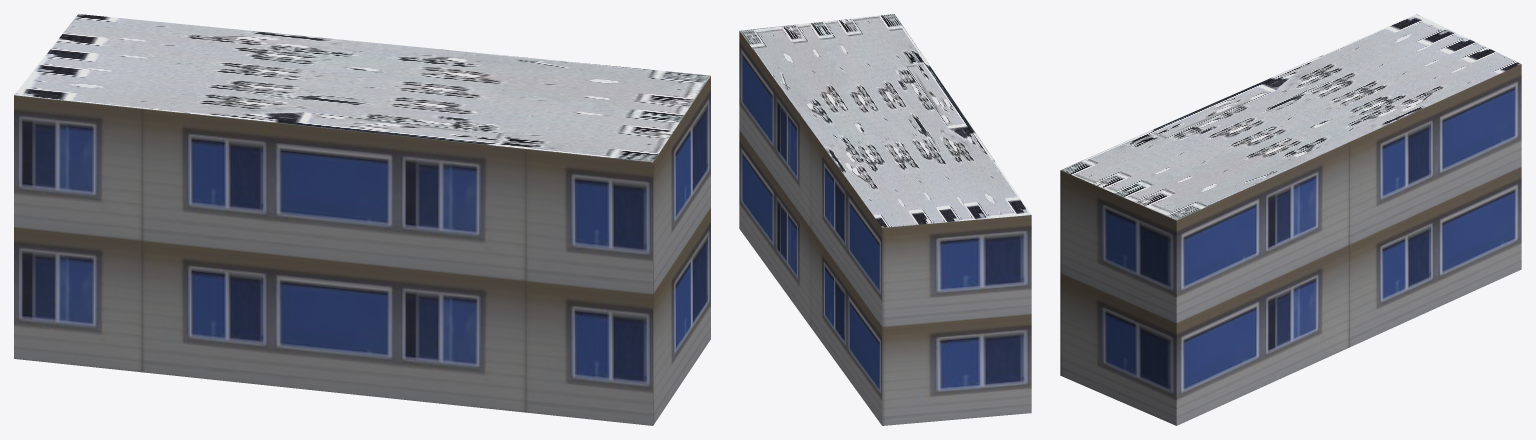
Rendered from ResTex__2808.fbx.
3 views of the same model, side by side, from view 1: azimuth 30°, elevation 25°; view 2: azimuth 150°, elevation 25°; view 3: azimuth 270°, elevation 25° (orthographic). The views are drawn at different scales.
Visible parts, largest first — view 1: CityEngineMaterial_23_m, CityEngineMaterial_m; view 2: CityEngineMaterial_23_m, CityEngineMaterial_m; view 3: CityEngineMaterial_23_m, CityEngineMaterial_m.
Boxes of the visible parts, x1,y1,x2,y2 form: CityEngineMaterial_23_m: (14, 76, 710, 425); CityEngineMaterial_m: (14, 14, 710, 162); CityEngineMaterial_23_m: (739, 31, 1031, 425); CityEngineMaterial_m: (740, 14, 1031, 227); CityEngineMaterial_23_m: (1060, 64, 1521, 425); CityEngineMaterial_m: (1061, 14, 1520, 220).
Bounding box in the file's own units: 12.93 × 6 × 12.2.
Materials: 2 (2 with a texture image).
